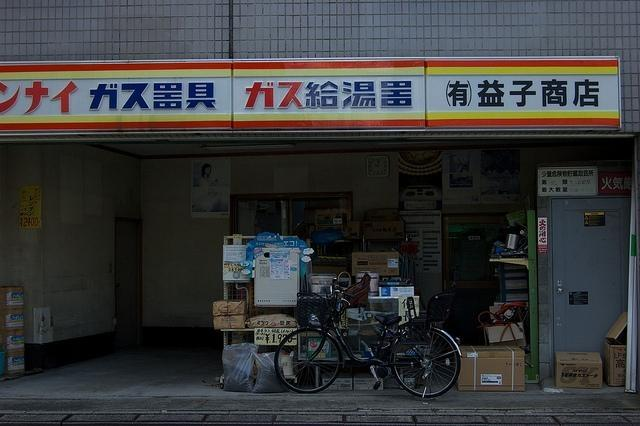bicycle: (276, 278, 462, 404)
